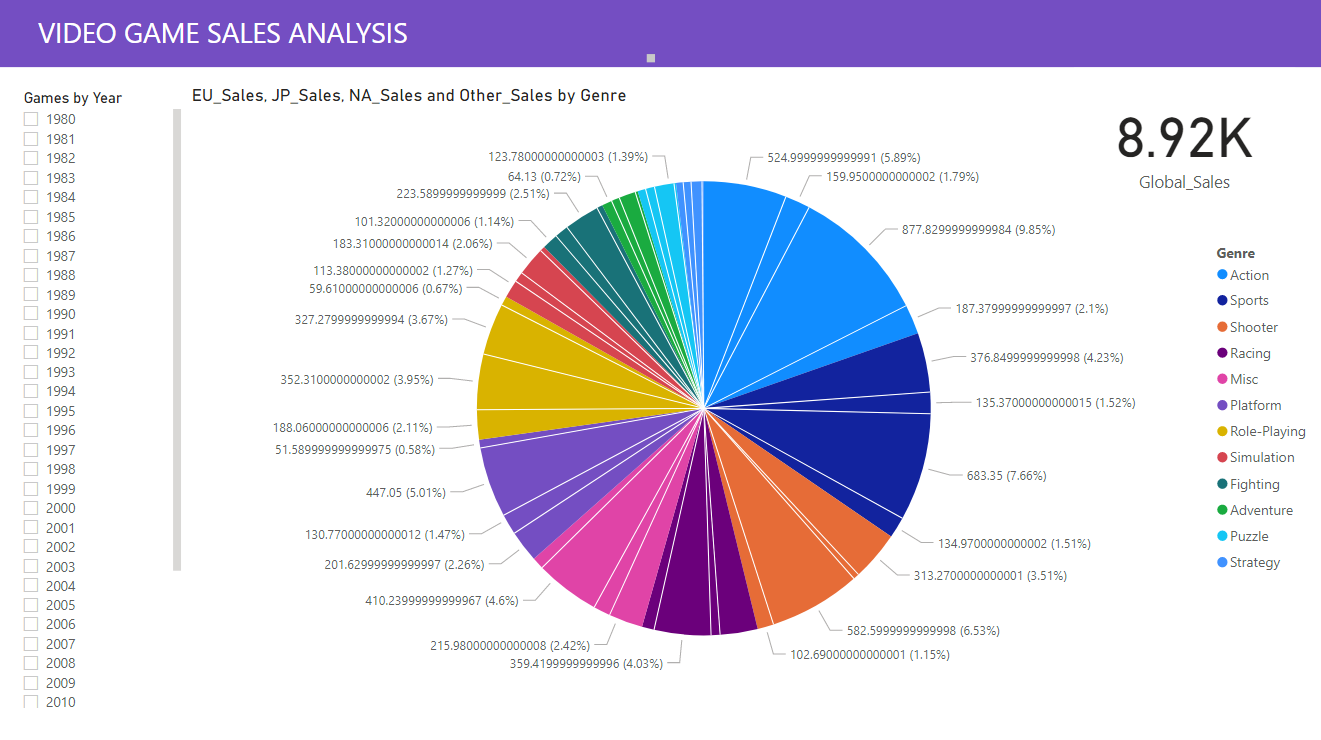

Layout of this report page (visuals, bound fields, positions):
{"tool":"powerbi","page":{"name":"Page 6","canvas":[1280,720],"ordinal":5},"visuals":[{"type":"slicer","fields":{"Values":["vgsales.Year"]},"box":[10.9,82.3,170.6,608.7],"z":0},{"type":"shape","box":[0,0,1280.3,66.6],"z":1},{"type":"textbox","title":"VIDEO GAME SALES ANALYSIS","box":[32.7,13.3,607.5,53.2],"z":2},{"type":"pieChart","fields":{"Y":["Sum(vgsales.EU_Sales)","Sum(vgsales.JP_Sales)","Sum(vgsales.NA_Sales)","Sum(vgsales.Other_Sales)"],"Category":["vgsales.Genre"]},"box":[182,82,1098,609],"z":3},{"type":"card","fields":{"Values":["Sum(vgsales.Global_Sales)"]},"box":[1040.7,66.6,214.2,142.8],"z":4}]}

Visuals, with their boxes in screenshot pixels (x1, y1, x2, y2), scaled from the page's 1280x720 canvas onto the 1321x740 screenshot:
slicer - vgsales.Year: [left=11, top=85, right=187, bottom=710]
shape: [left=0, top=0, right=1320, bottom=68]
"VIDEO GAME SALES ANALYSIS" textbox: [left=34, top=14, right=661, bottom=68]
pieChart - Sum(vgsales.EU_Sales) x Sum(vgsales.JP_Sales): [left=188, top=84, right=1320, bottom=710]
card - Sum(vgsales.Global_Sales): [left=1074, top=68, right=1295, bottom=215]
